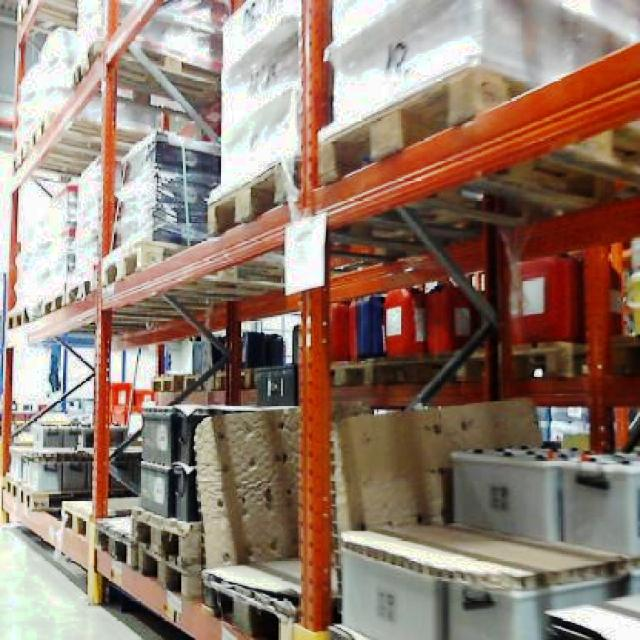ground: (0, 520, 195, 638)
pallet: (0, 394, 638, 638), (220, 0, 640, 259), (0, 234, 216, 333), (542, 585, 638, 638)
